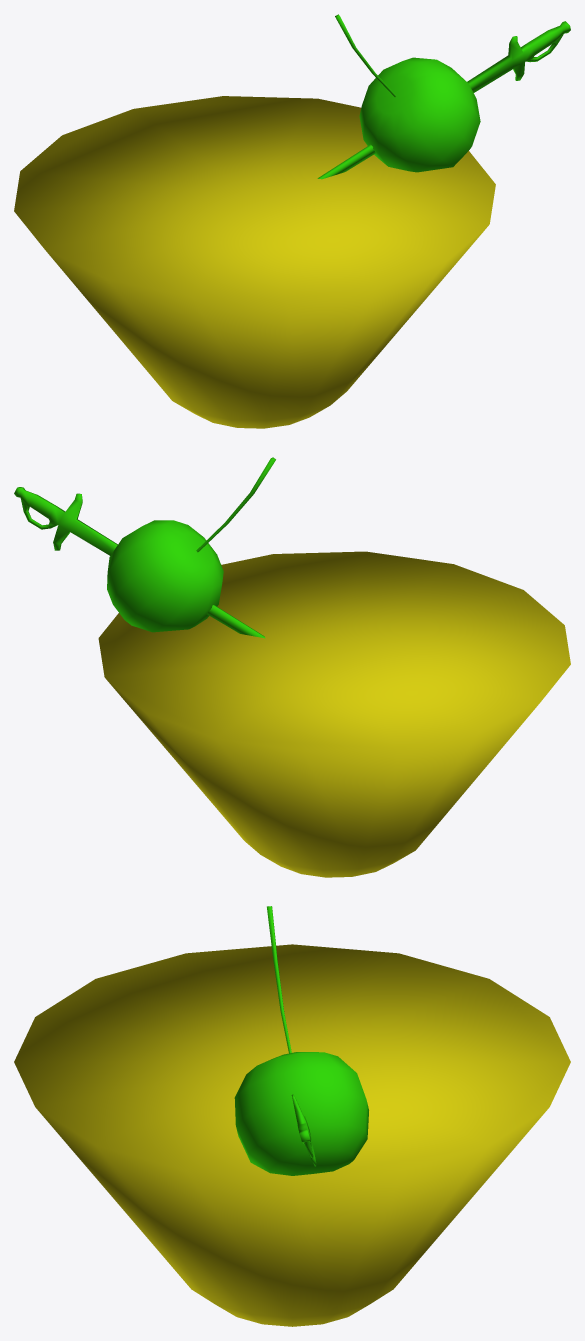
File: BHP_MOD_DRI_Manhattan.fbx
3 views of the same model, one above another, from view 1: azimuth 30°, elevation 25°; view 2: azimuth 150°, elevation 25°; view 3: azimuth 270°, elevation 25° (orthographic). The views are drawn at different scales.
Parts seen in each view (by area): view 1: BHP_MOD_Manhattan; view 2: BHP_MOD_Manhattan; view 3: BHP_MOD_Manhattan.
Part boxes in pixels (x1,y1,x2,y2): BHP_MOD_Manhattan: (14, 14, 570, 428); BHP_MOD_Manhattan: (14, 457, 570, 877); BHP_MOD_Manhattan: (14, 906, 570, 1326).
Size of the model in its own units: 0.1587 by 0.1113 by 0.1259.
